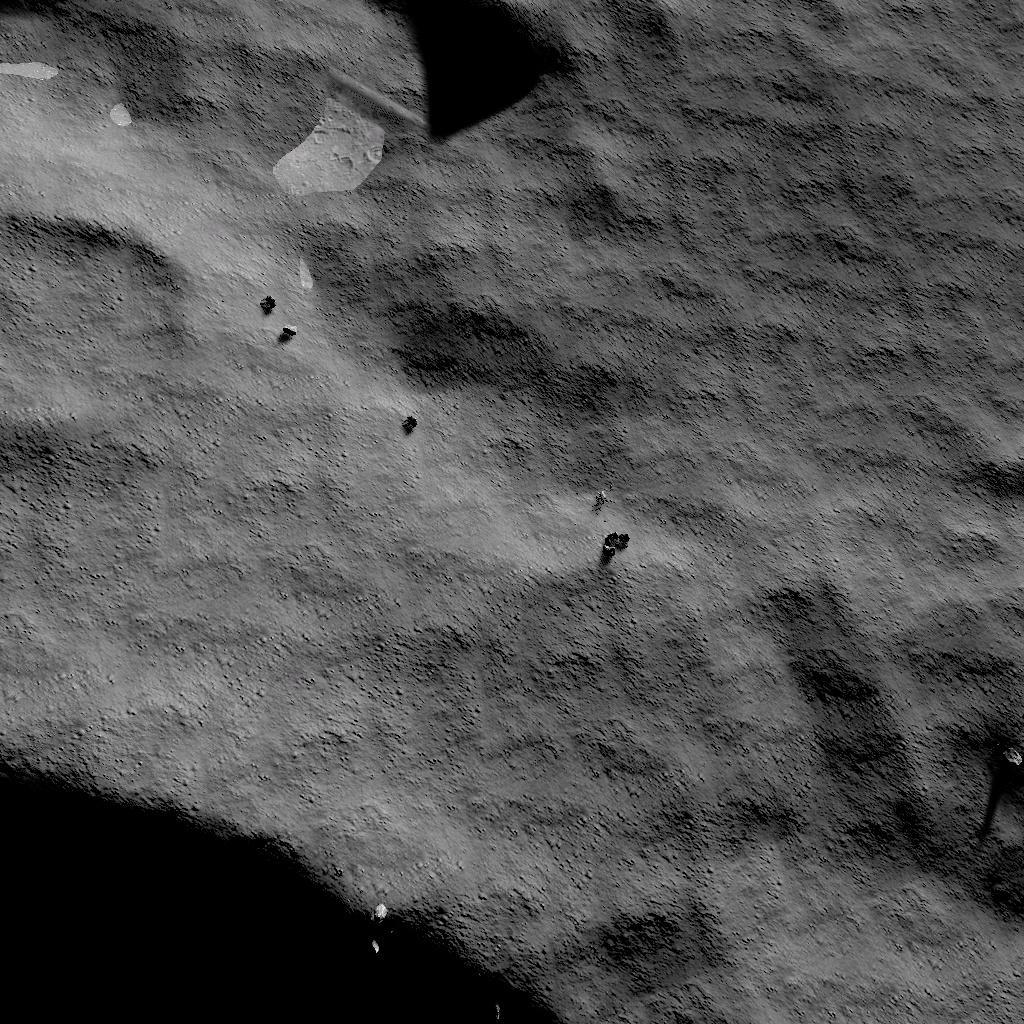Crater: (0, 772, 459, 1024), (267, 0, 543, 200), (0, 242, 200, 508), (0, 0, 187, 186)
Plan surface: (559, 2, 1024, 505), (633, 516, 973, 1024), (0, 518, 567, 760)
